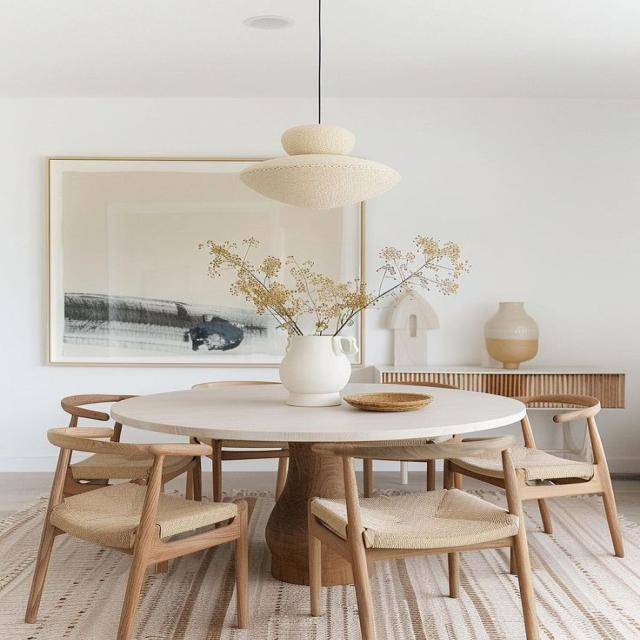obstacle: (108, 381, 530, 588), (23, 426, 250, 638), (306, 434, 539, 639), (443, 392, 624, 560), (187, 381, 290, 504)
